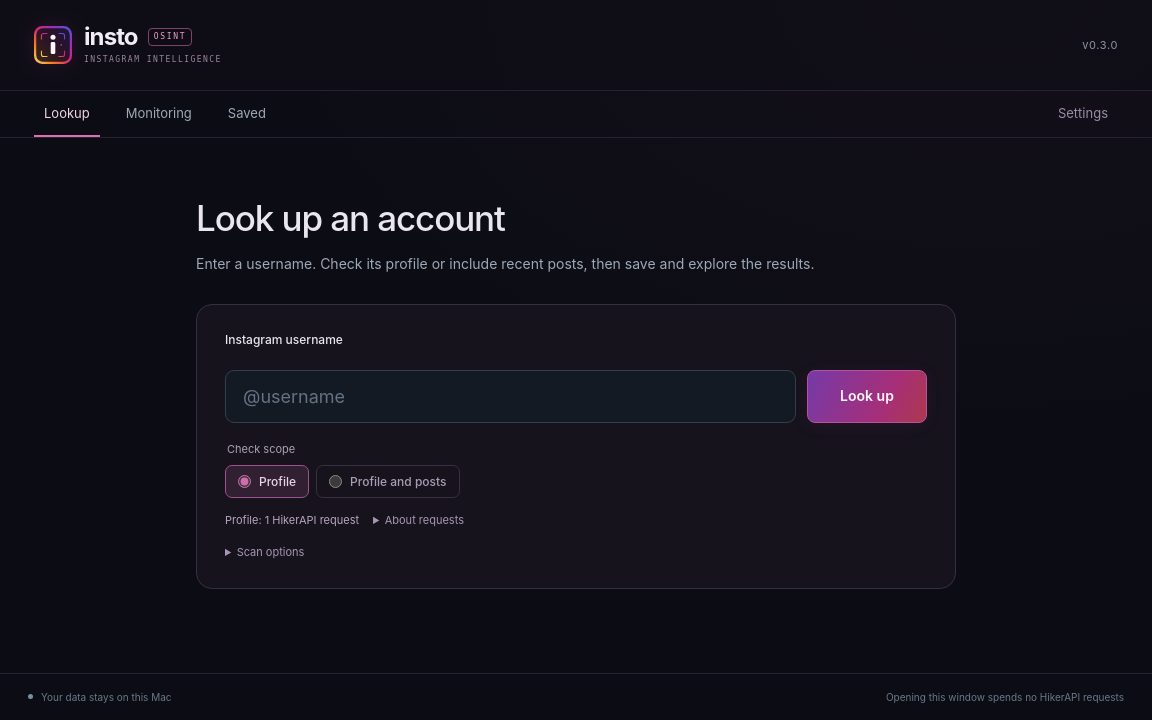
Test case: application integration › an unknown ownership issues no service mutation from any surface
Click the tab with id "tab-settings".
click(1083, 114)  # box [1048, 91, 1118, 137]
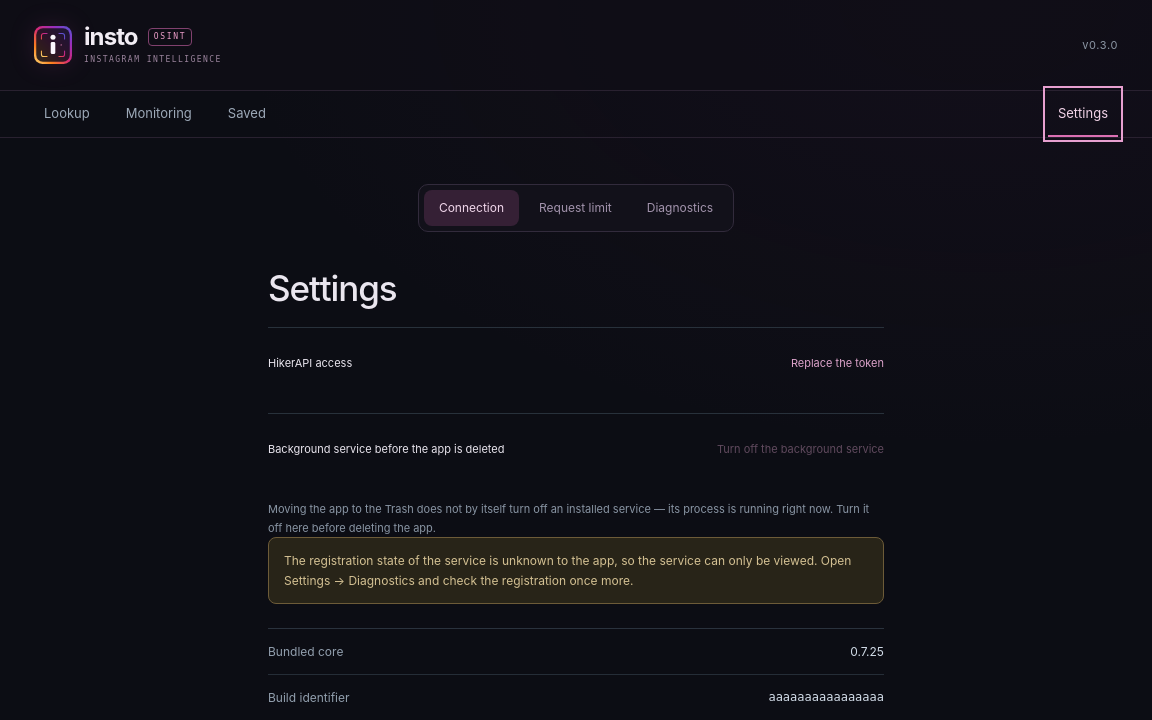
Click the button with id "tab-service".
click(680, 208)  # box [632, 190, 728, 226]
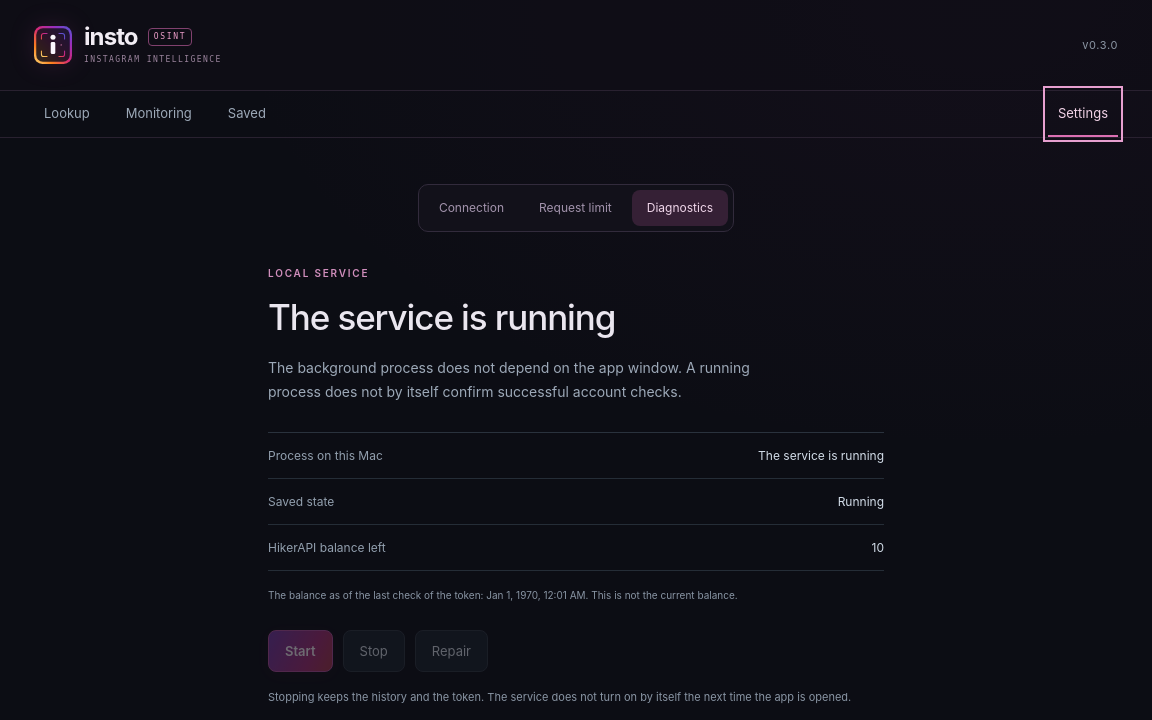
Result: the button "Start" is disabled at [268, 630, 333, 672]
Click the tab with id "tab-settings".
click(1083, 114)  # box [1048, 91, 1118, 137]
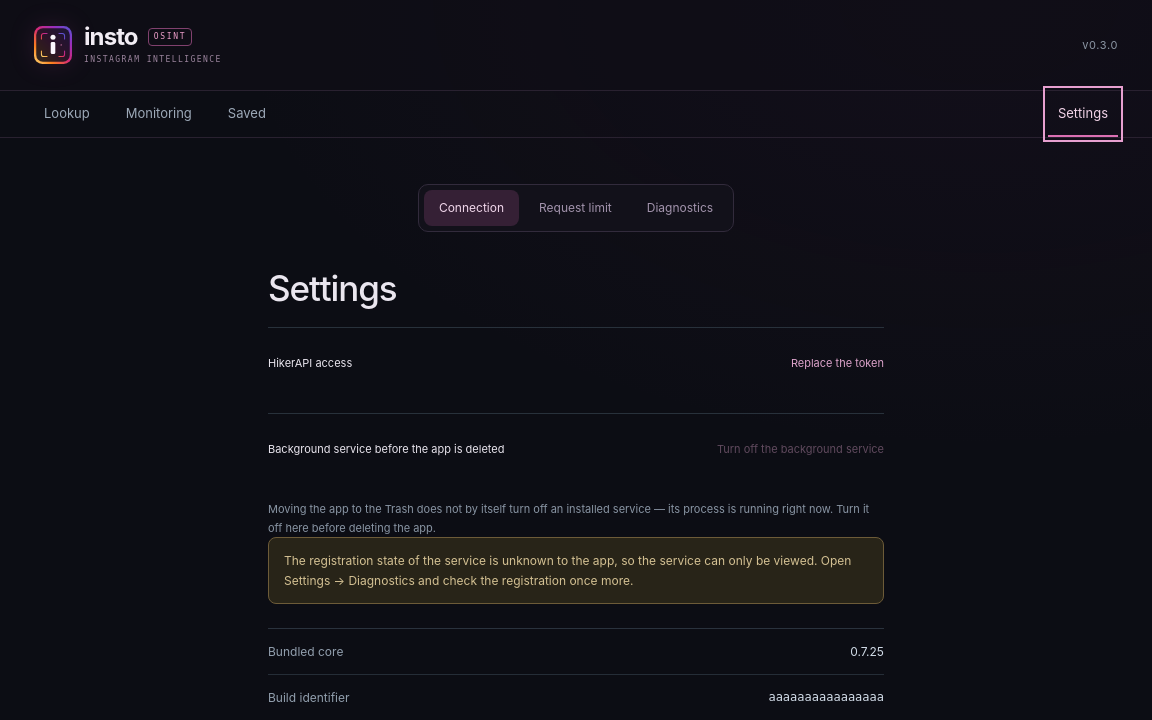
Result: the button "Turn off the background service" is disabled at [717, 436, 884, 462]
